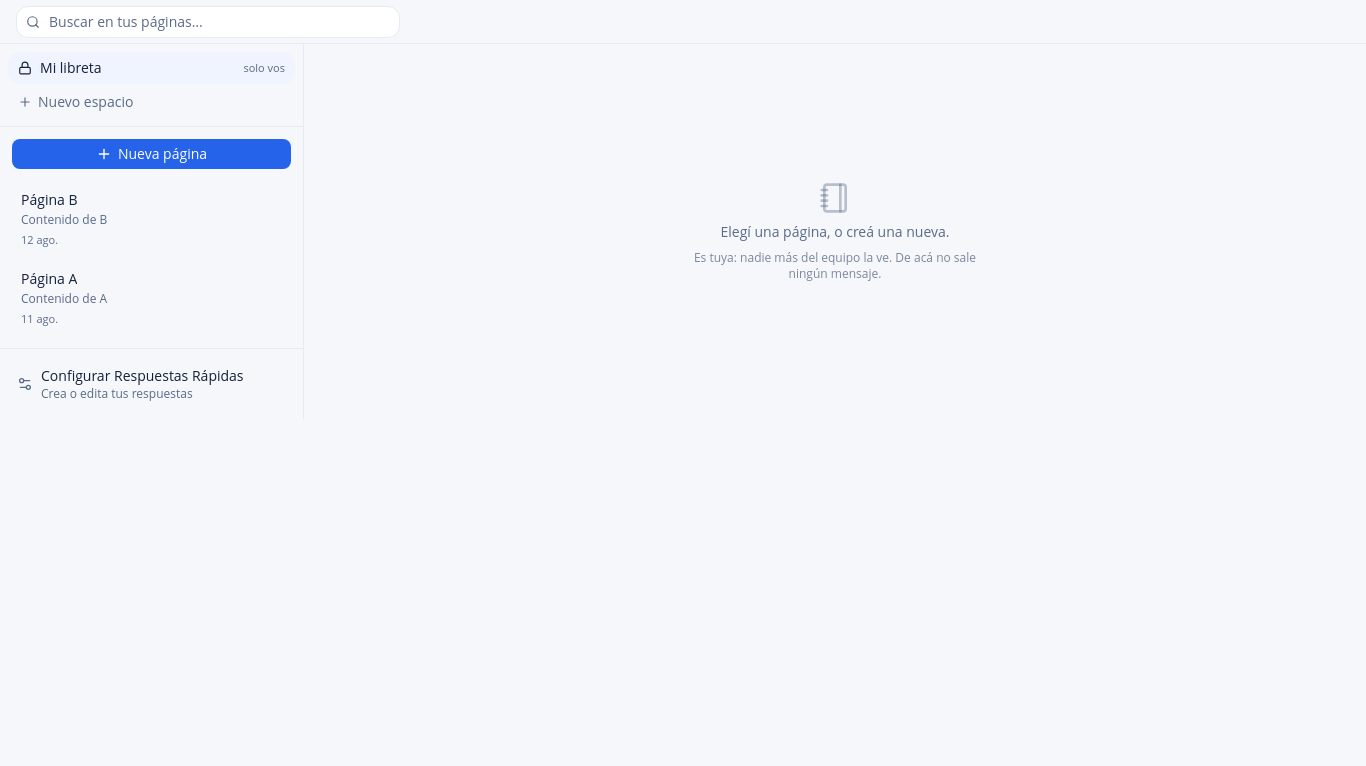
«Dividir pantalla» abre el selector con las otras páginas, sin ella misma
Click the button "Página A Contenido de A 11 ago." at (49, 278), box [21,268,282,327]
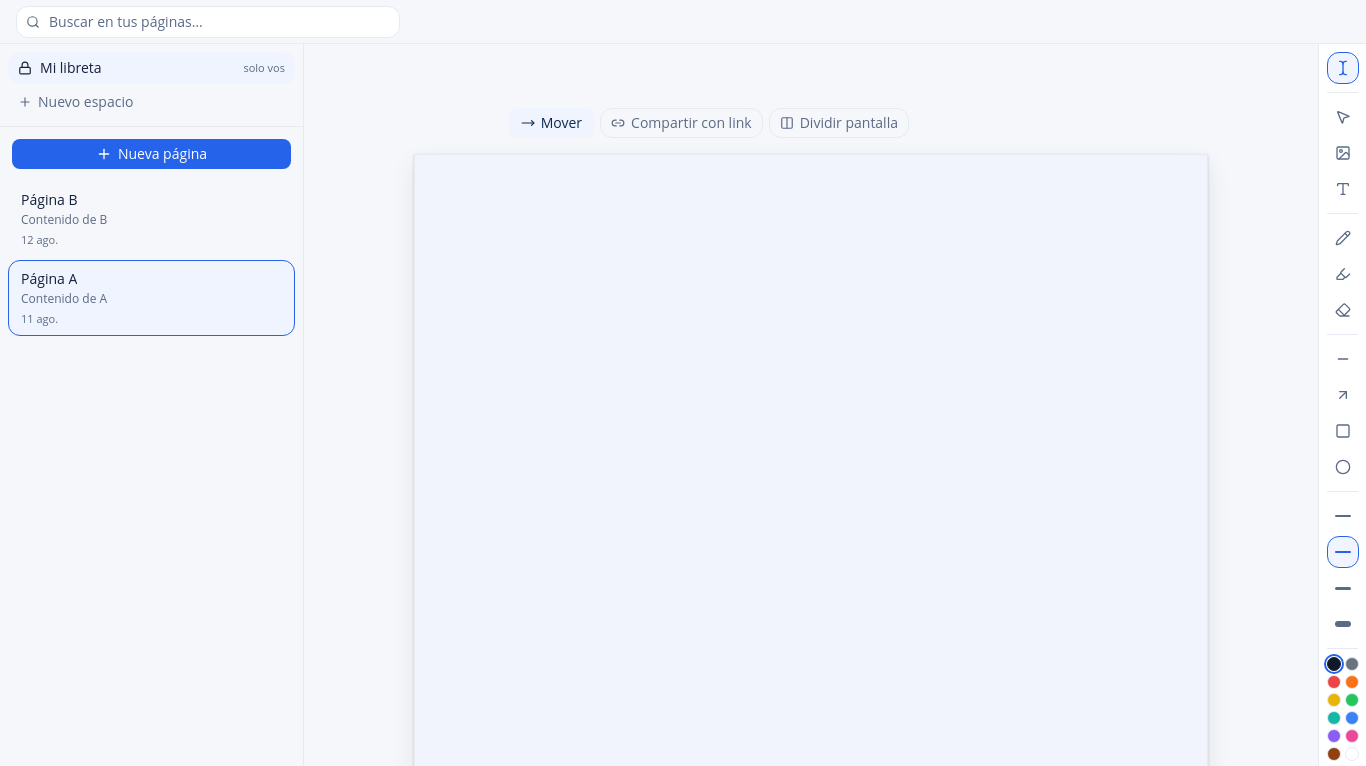
Click the button "Dividir pantalla" at (839, 123), box [769,108,909,138]
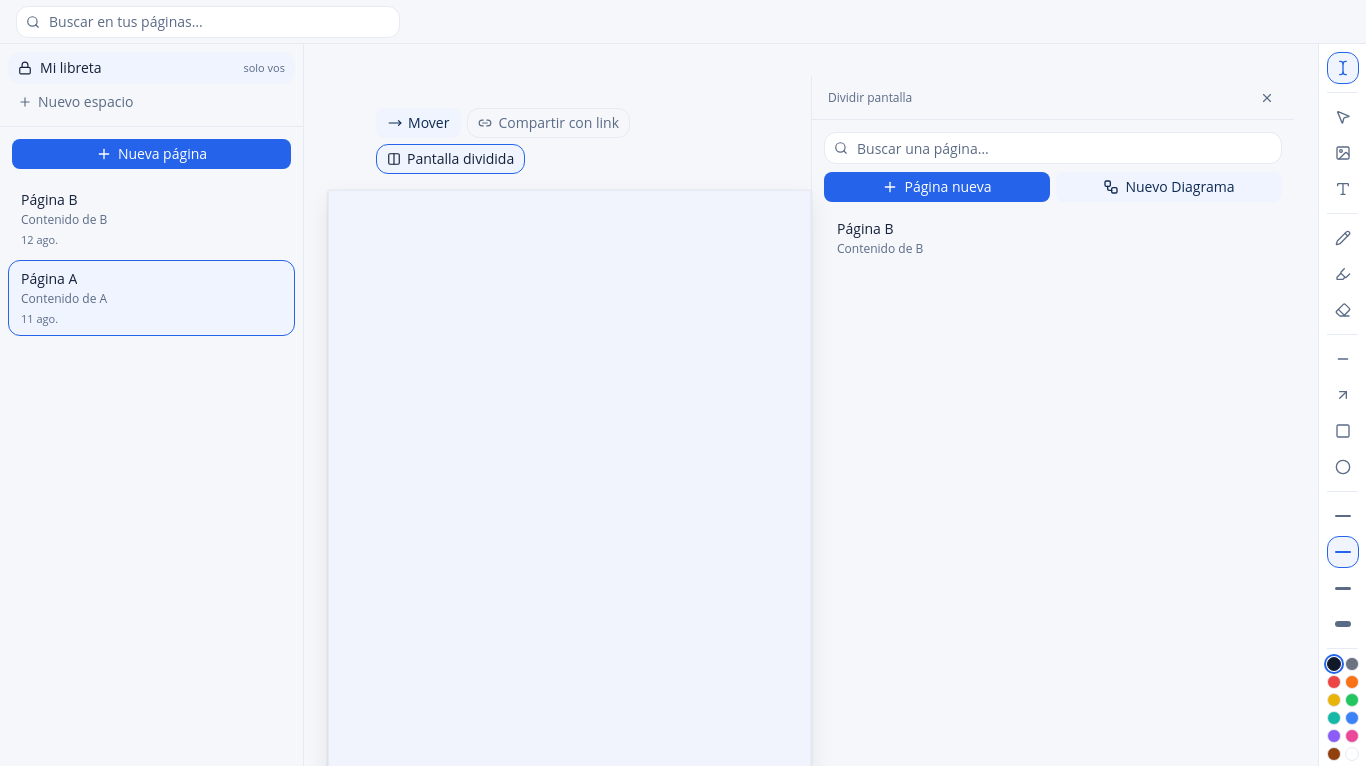
Now the button "Página B Contenido de B" is shown, box [824,210,1282,266]
